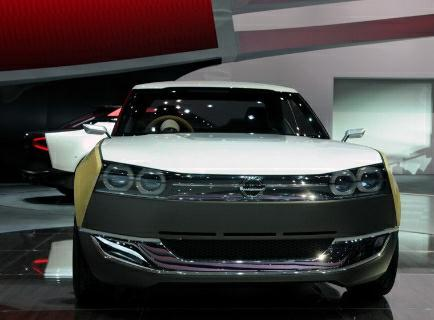日产-IDX: (68, 78, 405, 308)
